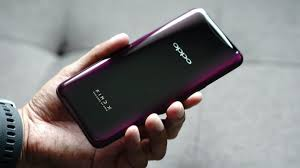oppo: (55, 7, 245, 150)
